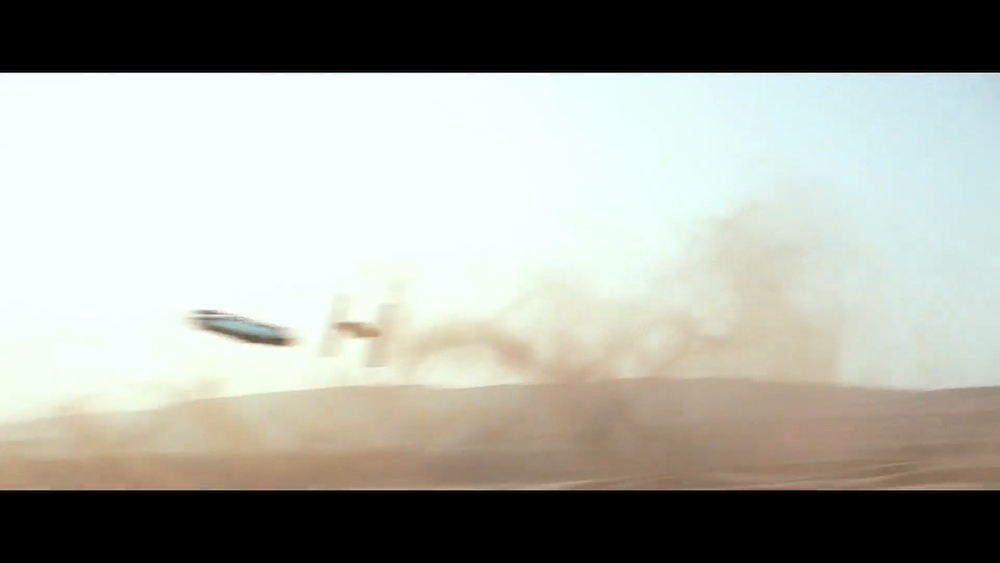Millennium Falcon: (183, 308, 306, 352)
Tie Fighter: (317, 292, 401, 371)
